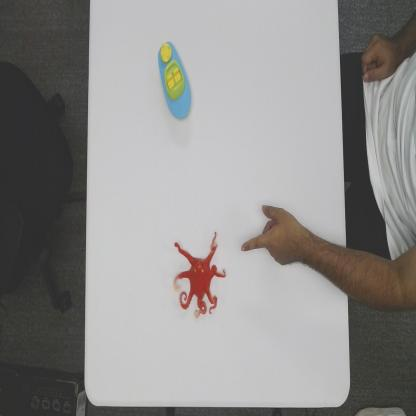Arm: (310, 229, 416, 313)
Boat: (157, 39, 193, 121)
Hand: (240, 203, 310, 269)
Octopus: (172, 230, 228, 319)
